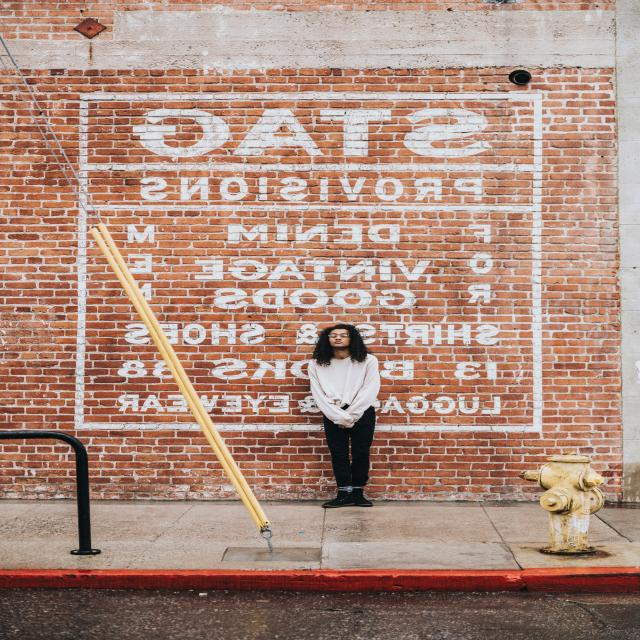adult: (307, 324, 380, 508)
